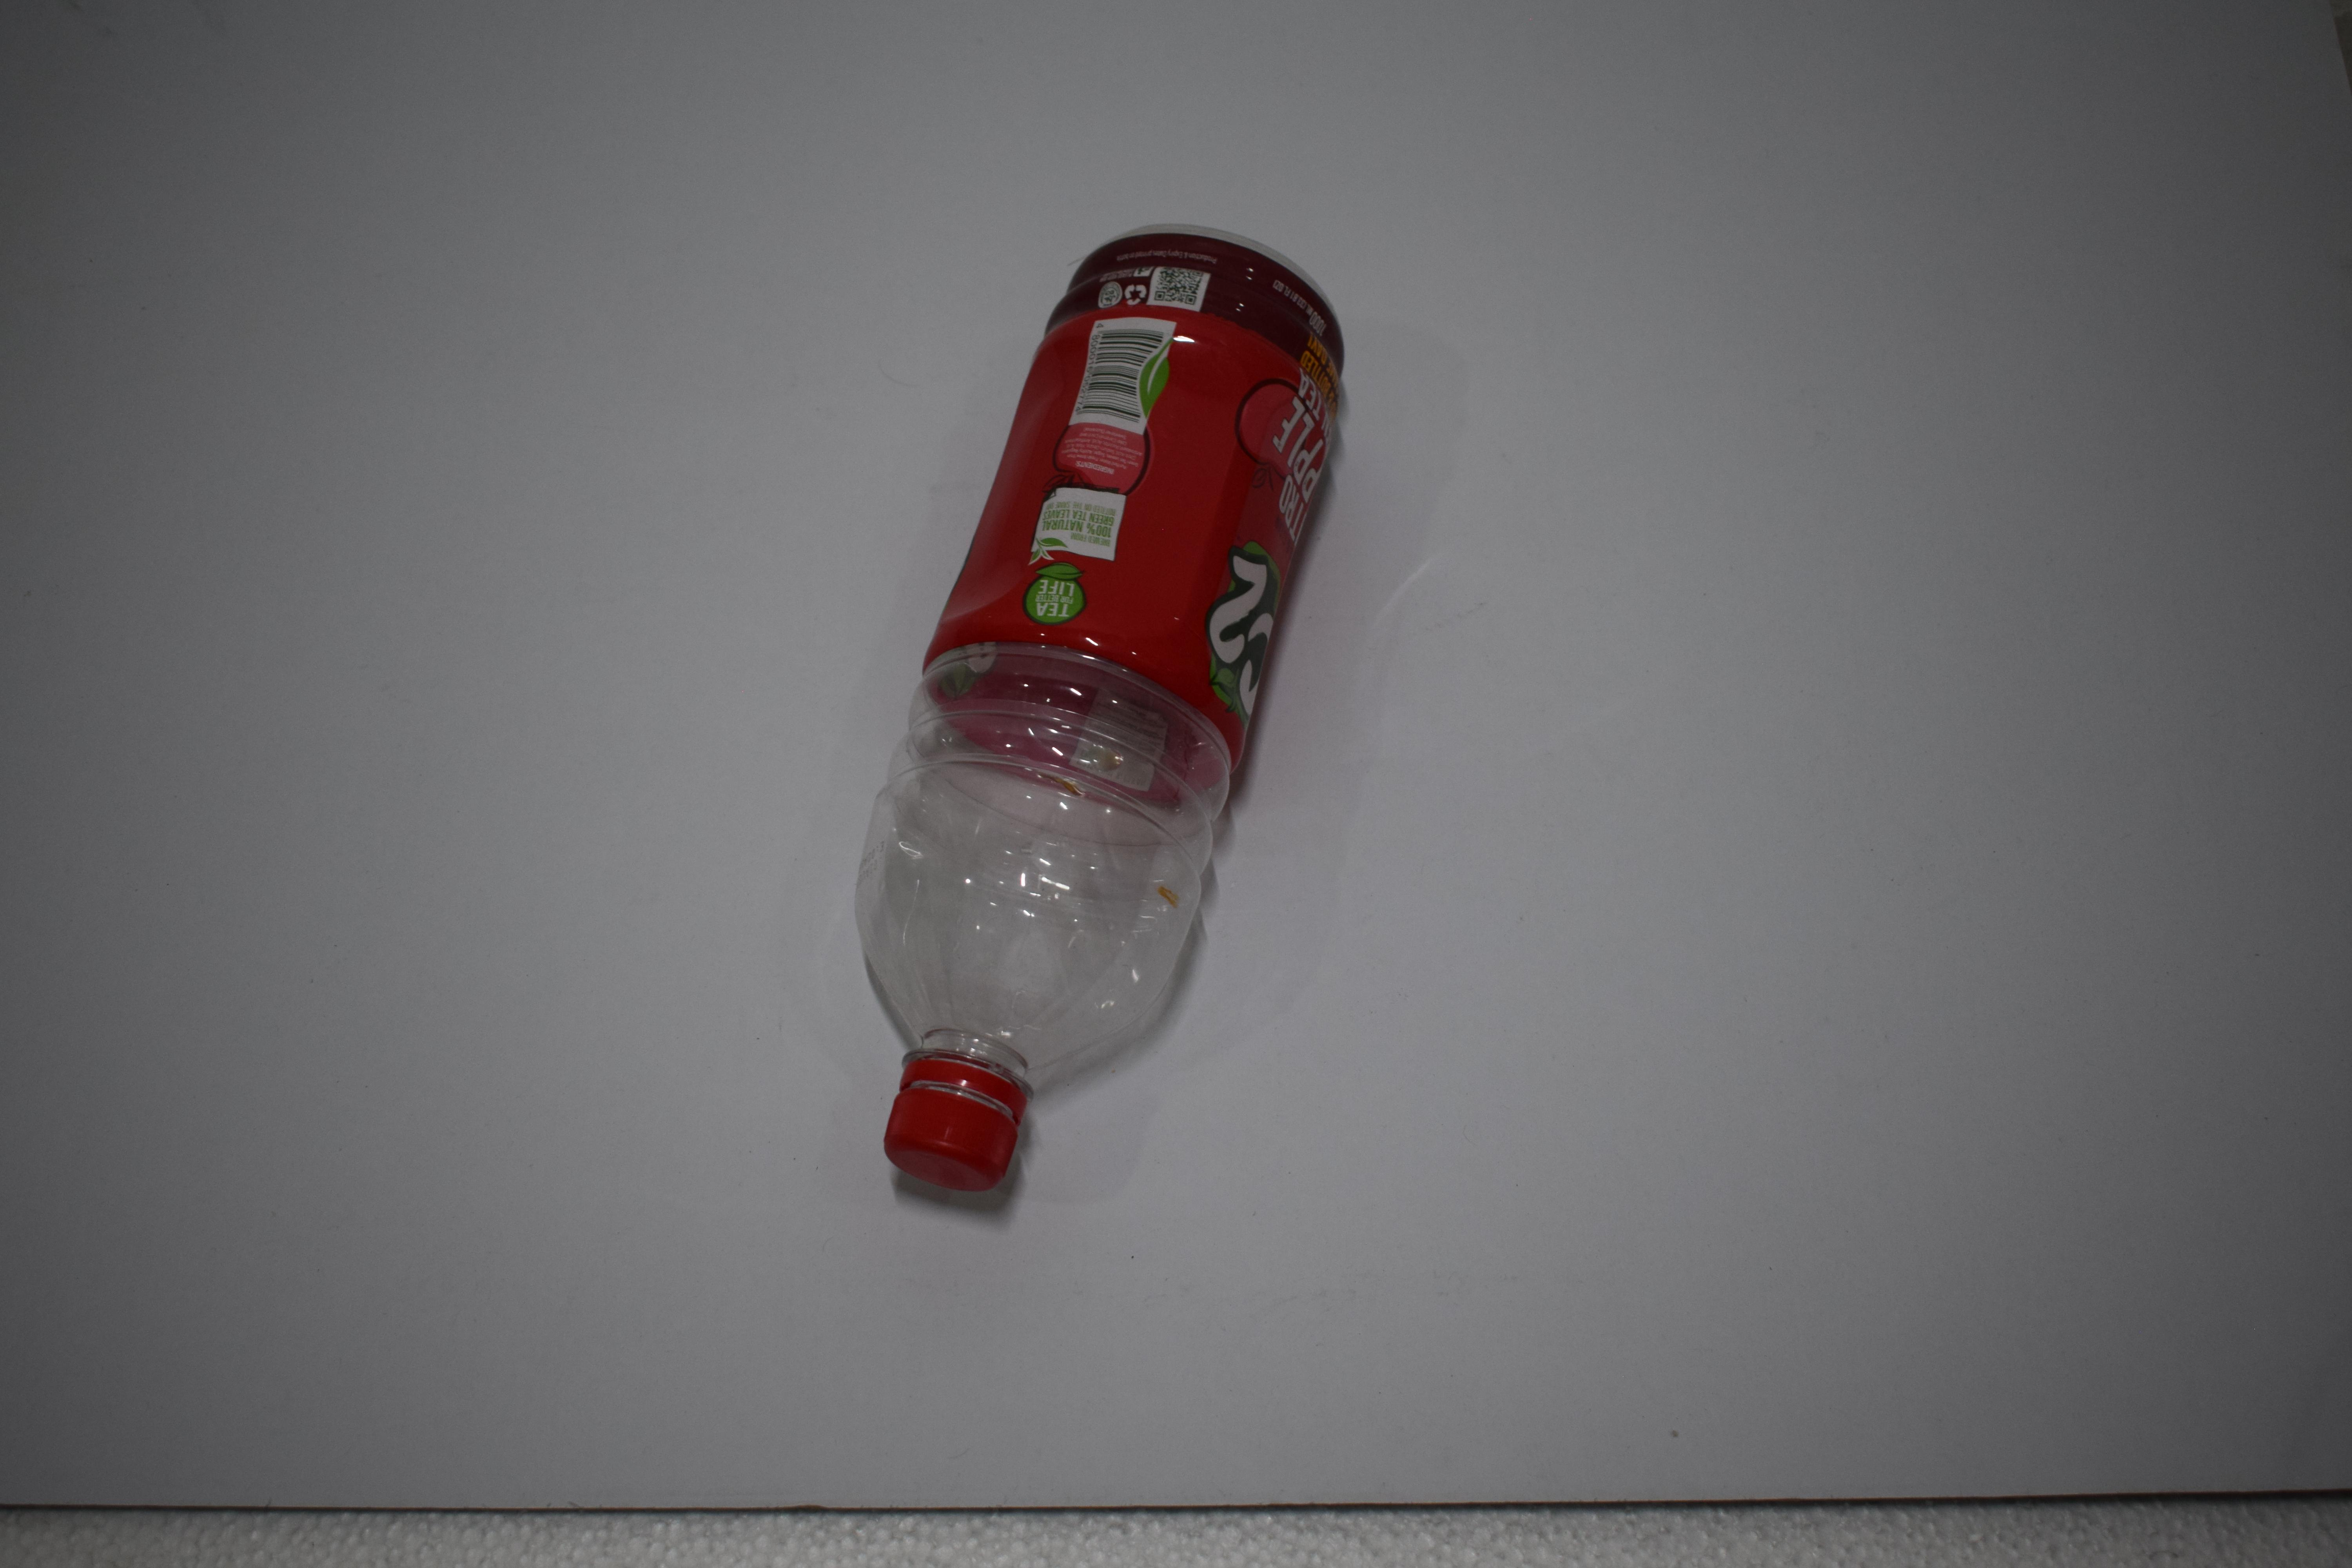bottle: (852, 142, 1346, 1125)
